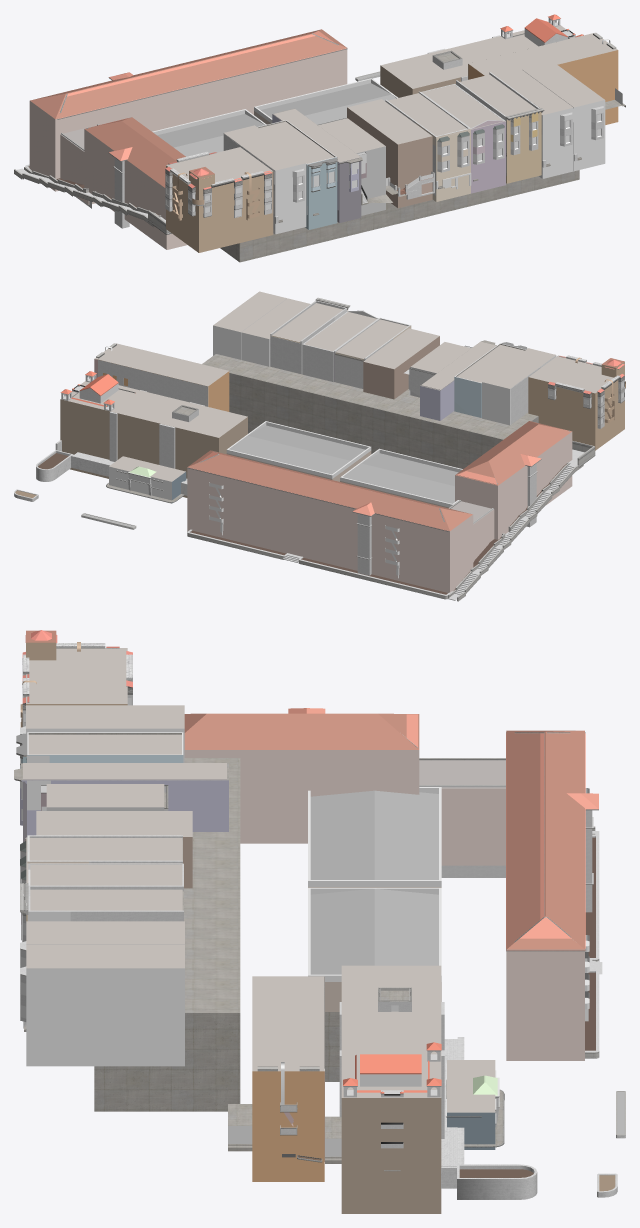
Rendered from city_west2.dae.
The picture shows the model from 3 angles, top to bottom: view 1: azimuth 30°, elevation 25°; view 2: azimuth 150°, elevation 25°; view 3: azimuth 270°, elevation 25°; orthographic projection. The views are drawn at different scales.
Parts seen in each view (by area): view 1: city_west2_a2000, city_west2_a3000; view 2: city_west2_a2000, city_west2_a3000; view 3: city_west2_a2000, city_west2_a3000.
Part boxes in pixels (left/top/right/bottom): city_west2_a2000: left=29, top=25, right=618, bottom=252; city_west2_a3000: left=14, top=14, right=625, bottom=262; city_west2_a2000: left=60, top=291, right=624, bottom=592; city_west2_a3000: left=14, top=297, right=625, bottom=601; city_west2_a2000: left=23, top=630, right=584, bottom=1213; city_west2_a3000: left=14, top=630, right=625, bottom=1199.
Bounding box in the file's own units: 133 × 91.59 × 37.37.
